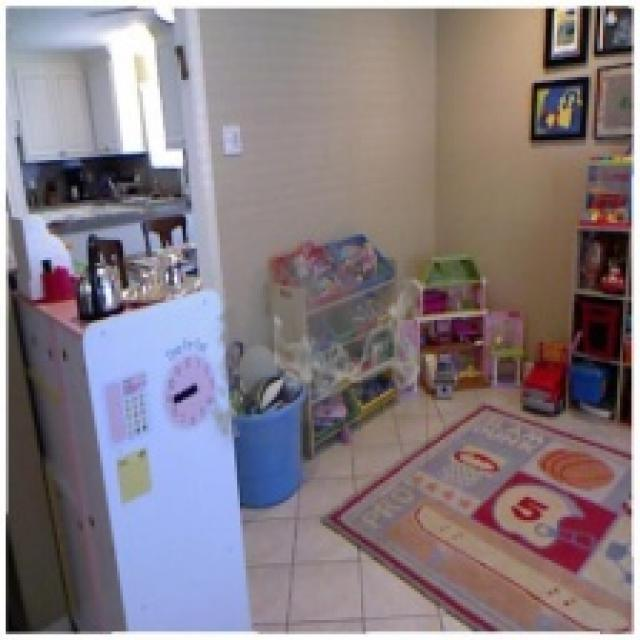Smoke: (202, 208, 428, 468)
